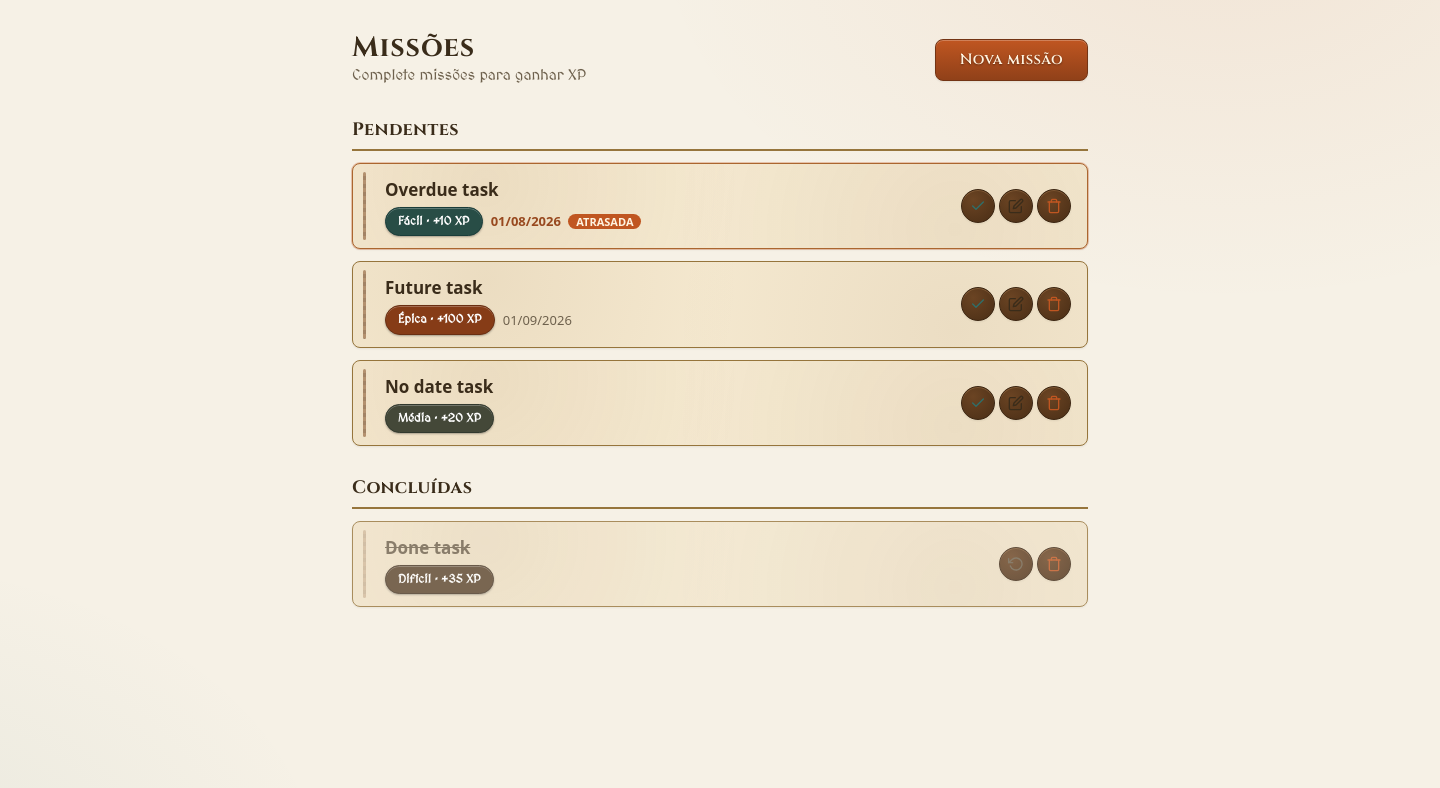
Test: MissionListComponent › should open create form on new mission button
Click the button with class "mission-list__new-btn": point(1011, 60) [935,39,1088,81]
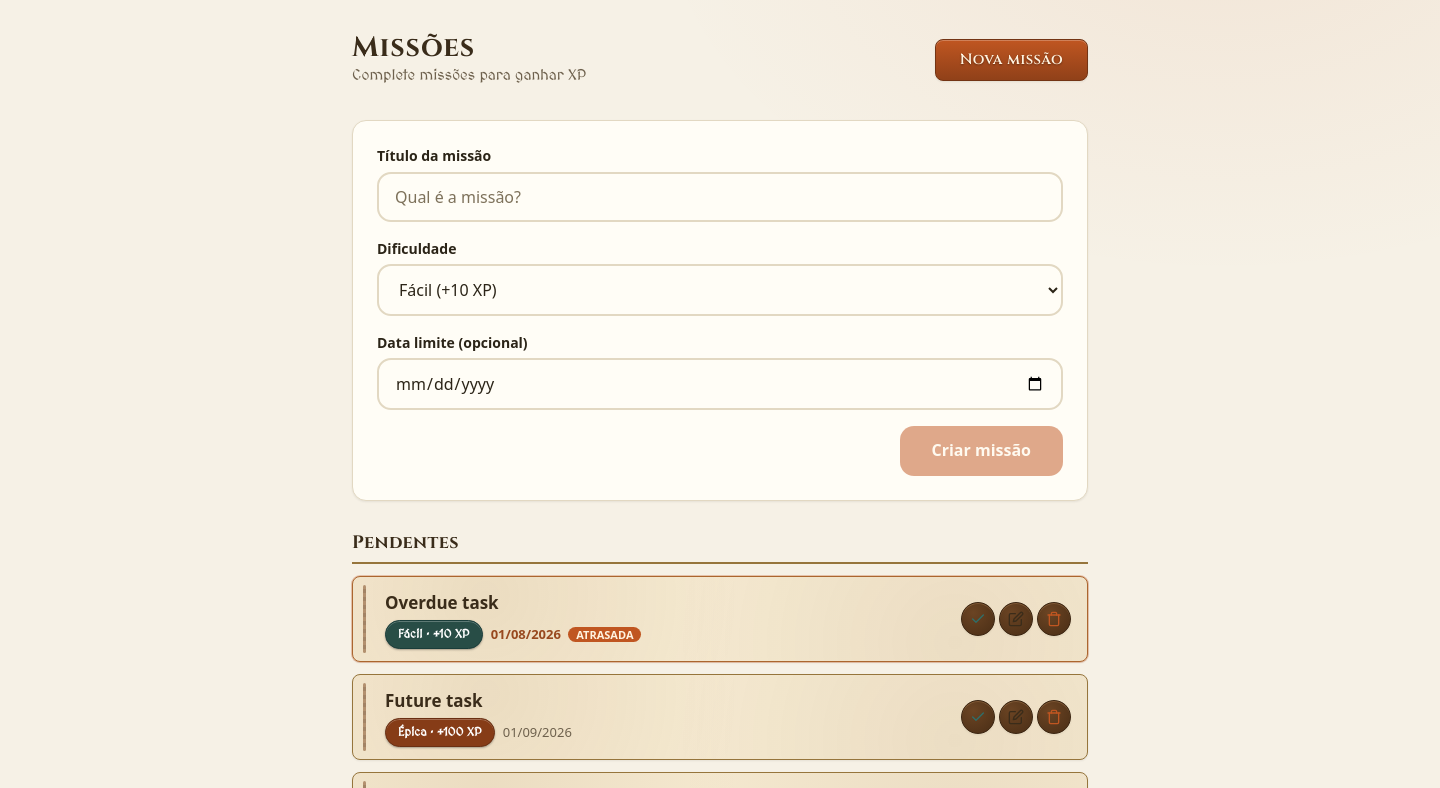
Expected: the element that starts with "Título da missão" is shown, [352,120,1088,501]
